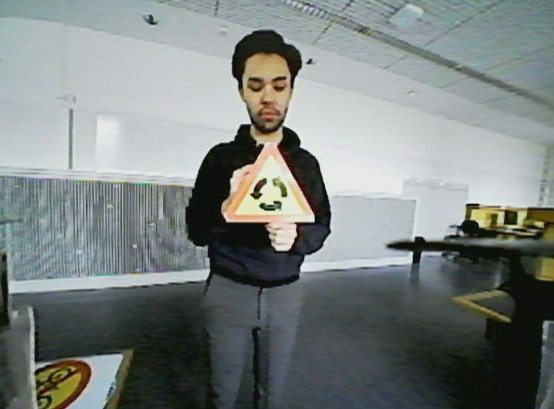roundabout_warning: (217, 137, 320, 227)
